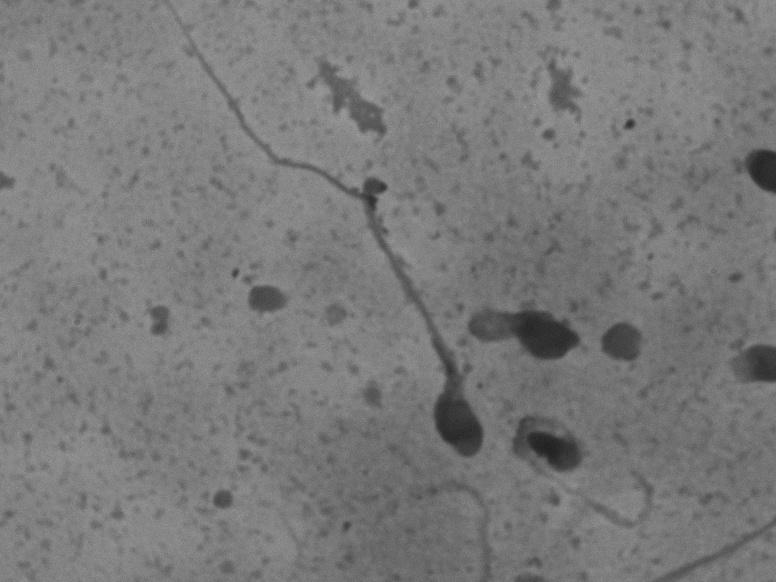Abnormal: (157, 12, 494, 471), (465, 254, 600, 367)
